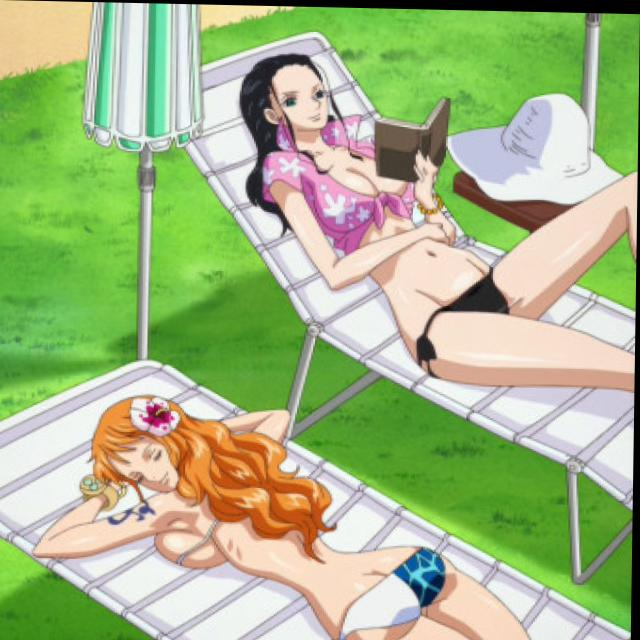Nami: (91, 372, 243, 503)
NicoRobin: (231, 56, 346, 174)
